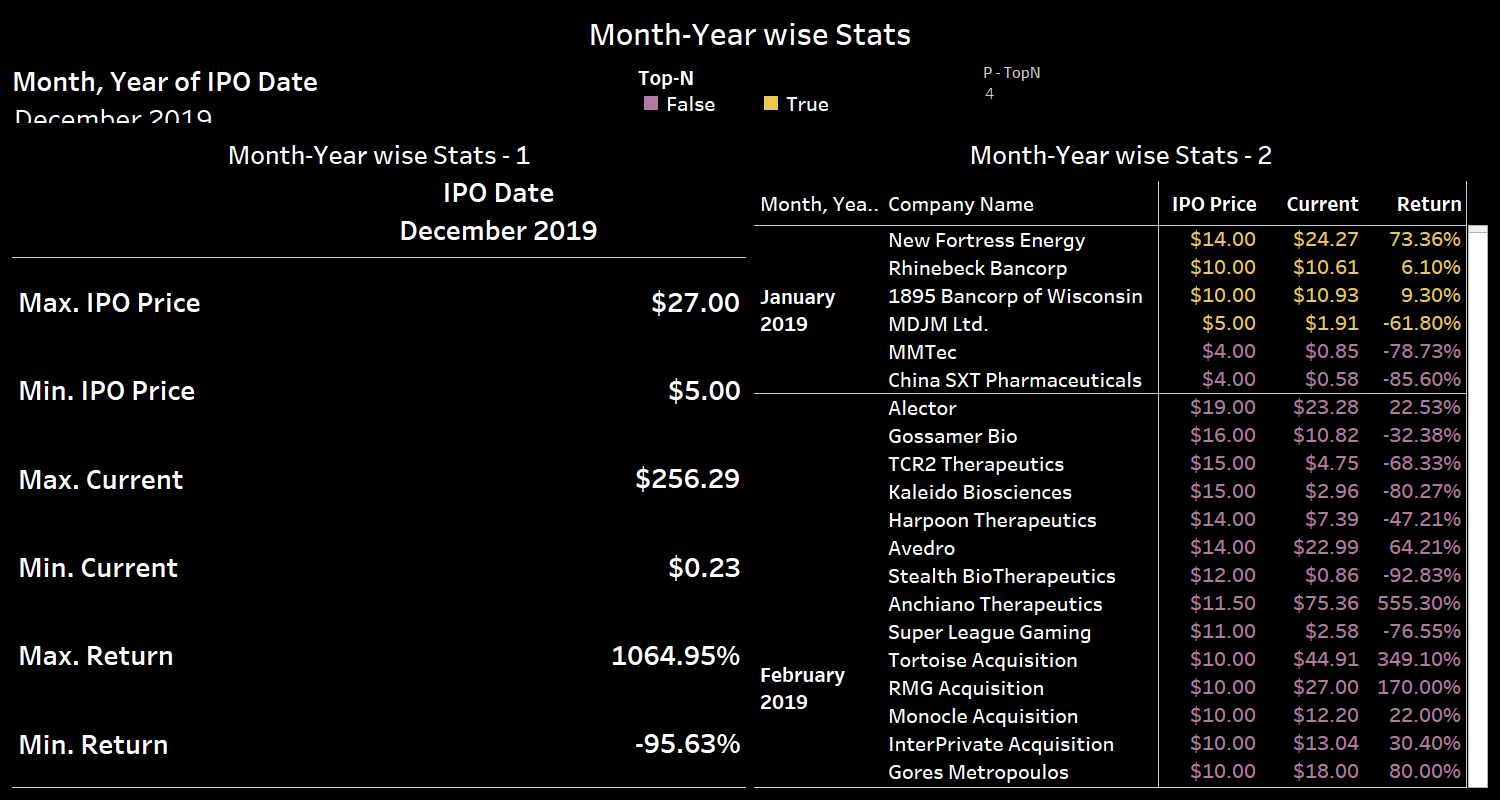

The dashboard page shown, as its layout file describes it:
{"tool":"tableau","page":{"name":"Month-Year wise Stats","canvas":[1500,800],"ordinal":1},"visuals":[{"type":"title","box":[8,8,1484,49]},{"type":"filter","title":"Month-Year wise Stats - 1","param":"[federated.1nnjw3z0vnb68x1dr9wwc12x93k4].[my:IPO Date:ok]","box":[8,57,625,70.3]},{"type":"legend","title":"Month-Year wise Stats - 2","param":"[federated.1nnjw3z0vnb68x1dr9wwc12x93k4].[usr:Calculation_917608480021536769:nk:","box":[633,57,346,70.3]},{"type":"parameter","param":"[Parameters].[Parameter 1]","box":[979,57,513,70.3]},{"type":"worksheet","title":"Month-Year wise Stats - 1","mark":"Automatic","cols":["IPO Date"],"box":[8,127.3,742,664.7]},{"type":"worksheet","title":"Month-Year wise Stats - 2","mark":"Automatic","rows":["IPO Date","Company Name"],"box":[750,127.3,742,664.7]}]}

Visuals, with their boxes in screenshot pixels (x1, y1, x2, y2), scaled from the page's 1500x800 canvas onto the 1500x800 screenshot:
title: [8,8,1492,57]
"Month-Year wise Stats - 1" filter: [8,57,633,127]
"Month-Year wise Stats - 2" legend: [633,57,979,127]
parameter: [979,57,1492,127]
"Month-Year wise Stats - 1" worksheet: [8,127,750,792]
"Month-Year wise Stats - 2" worksheet: [750,127,1492,792]
